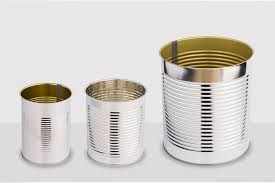can: (158, 35, 253, 165), (85, 77, 148, 165), (17, 80, 74, 165)
